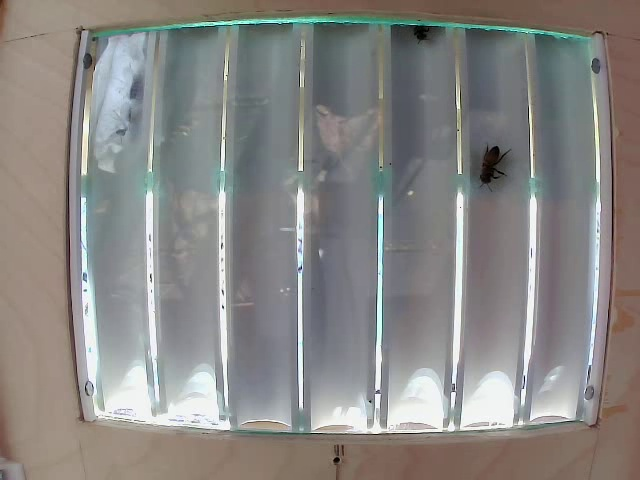bee: (469, 129, 507, 198)
